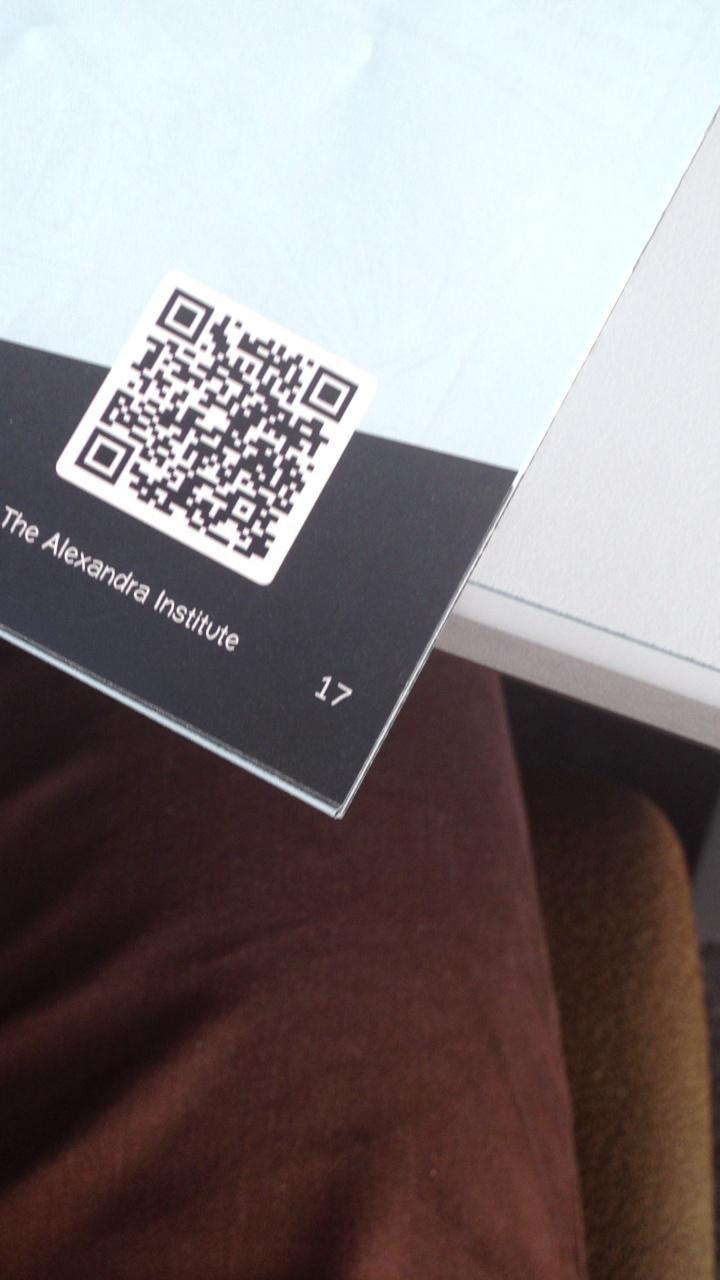Finder pattern: (74, 422, 135, 492), (300, 362, 359, 429), (152, 285, 214, 347)
